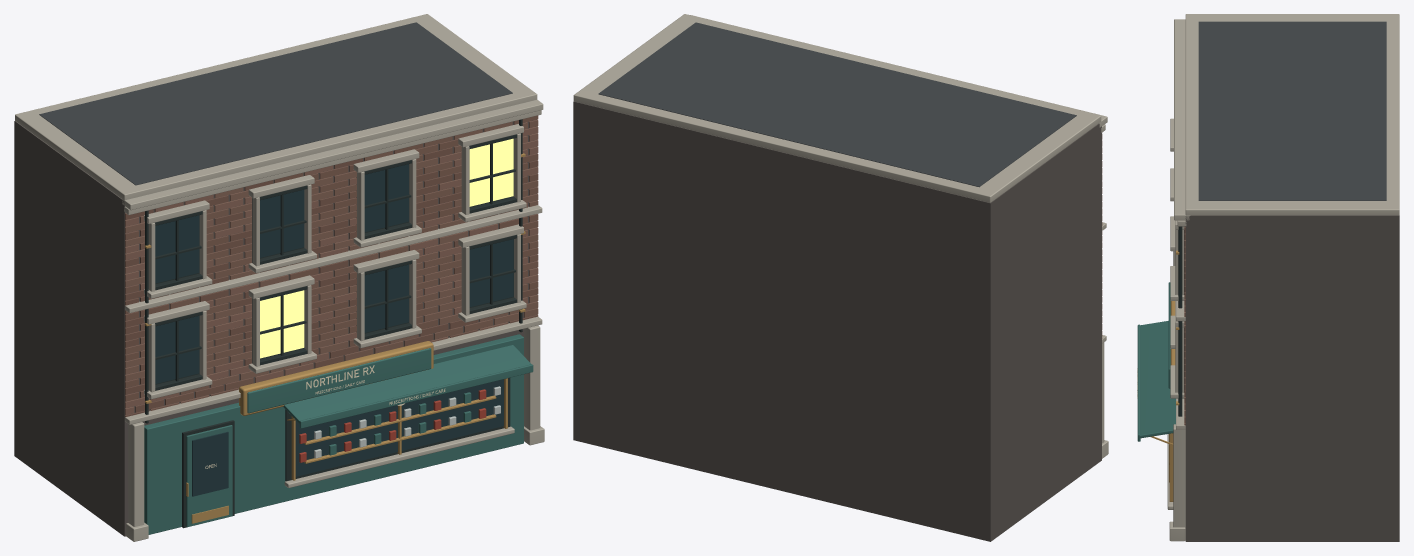
The model's file is district-northline-rx.glb.
The picture shows the model from 3 angles, left to right: view 1: azimuth 30°, elevation 25°; view 2: azimuth 150°, elevation 25°; view 3: azimuth 270°, elevation 25°; orthographic projection. The views are drawn at different scales.
Parts seen in each view (by area): view 1: Existing envelope, District Warm limestone, District Roof membrane, District Opaque dark glazing, District Coffee enamel, Roof cap, District Charcoal painted metal, District Brick tone 3, District Brick tone 0, District Brick tone 4, District Brick tone 2, District Brick tone 1 (+7 smaller); view 2: Existing envelope, District Roof membrane, Roof cap, District Warm limestone; view 3: Existing envelope, District Roof membrane, Roof cap, District Warm limestone, District Coffee enamel, District Charcoal painted metal, District Aged brass.
Part boxes in pixels (bbox=[...]): Existing envelope: bbox=[14, 119, 537, 536]; District Warm limestone: bbox=[122, 99, 544, 541]; District Roof membrane: bbox=[39, 22, 512, 185]; District Opaque dark glazing: bbox=[155, 164, 513, 496]; District Coffee enamel: bbox=[144, 334, 533, 534]; Roof cap: bbox=[15, 14, 537, 200]; District Charcoal painted metal: bbox=[145, 119, 522, 528]; District Brick tone 3: bbox=[125, 121, 538, 397]; District Brick tone 0: bbox=[125, 147, 538, 417]; District Brick tone 4: bbox=[125, 126, 538, 414]; District Brick tone 2: bbox=[125, 119, 538, 410]; District Brick tone 1: bbox=[125, 115, 538, 405]; Existing envelope: bbox=[573, 101, 1101, 541]; District Roof membrane: bbox=[598, 22, 1076, 187]; Roof cap: bbox=[573, 14, 1101, 202]; District Warm limestone: bbox=[690, 15, 1108, 458]; Existing envelope: bbox=[1185, 215, 1399, 541]; District Roof membrane: bbox=[1198, 21, 1386, 200]; Roof cap: bbox=[1185, 14, 1399, 215]; District Warm limestone: bbox=[1167, 19, 1190, 541]; District Coffee enamel: bbox=[1137, 321, 1175, 441]; District Charcoal painted metal: bbox=[1178, 226, 1184, 416]; District Aged brass: bbox=[1150, 250, 1179, 501].
Bounding box in the file's own units: 11.7 × 9.26 × 6.62.
